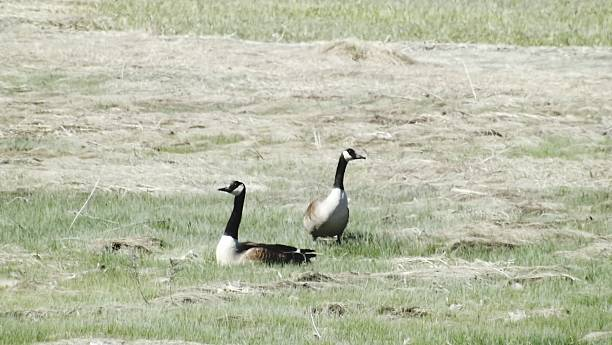goose: (213, 179, 320, 270), (298, 147, 369, 247)
